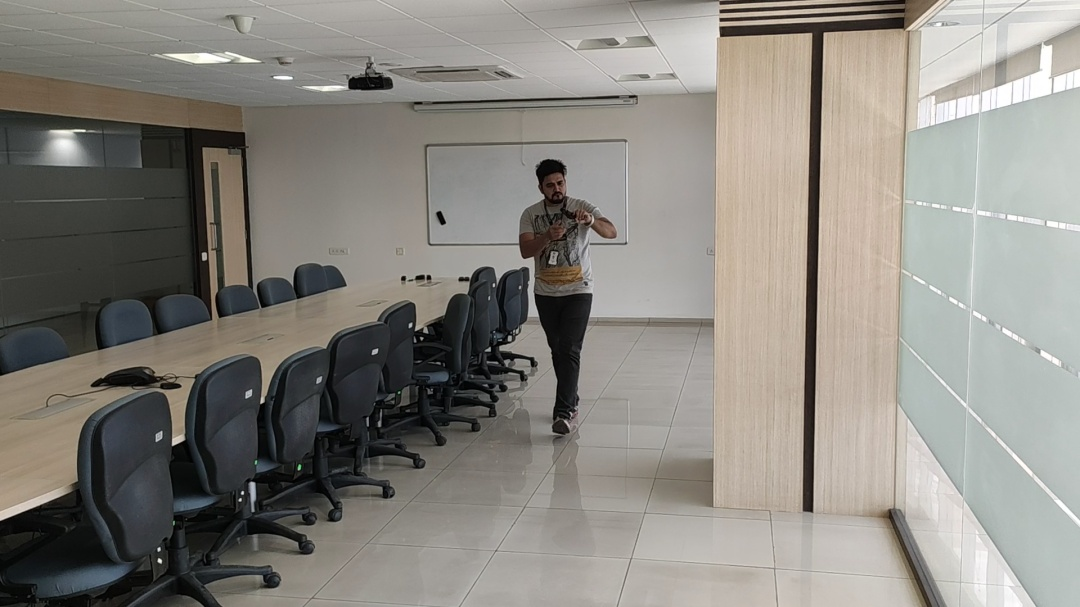gun: (559, 208, 574, 220)
